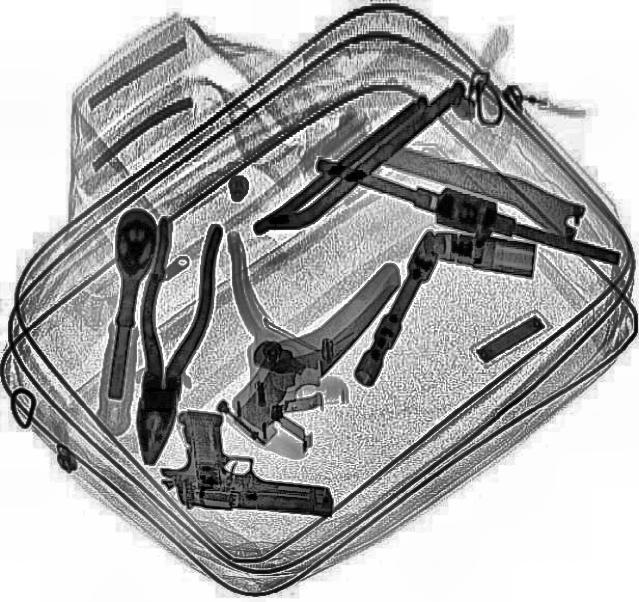Gun: (154, 408, 342, 520)
Pliers: (115, 215, 223, 469)
